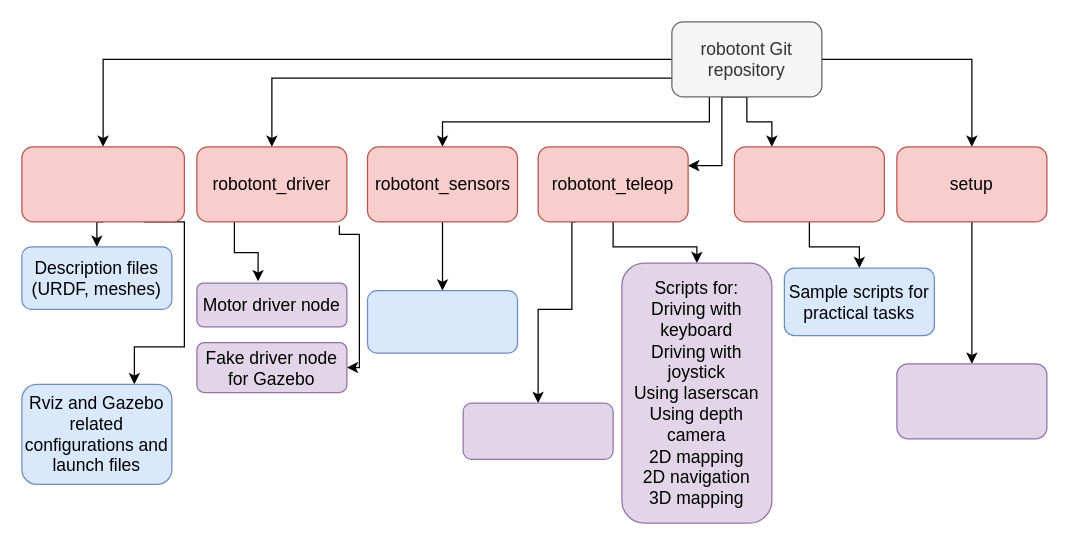
The diagram is 1069 pixels wide and 545 high, and some of its shapes have lost their labels. Here are the shapes that lost their labels. From the top down, the centre of each, then its label:
the point at 102,184: robotont_description
the point at 808,184: robotont_training
the point at 442,321: Laserscan to distance node
the point at 971,400: Script to set up Robotont's main PC
the point at 537,430: Custom joystick mapping node
